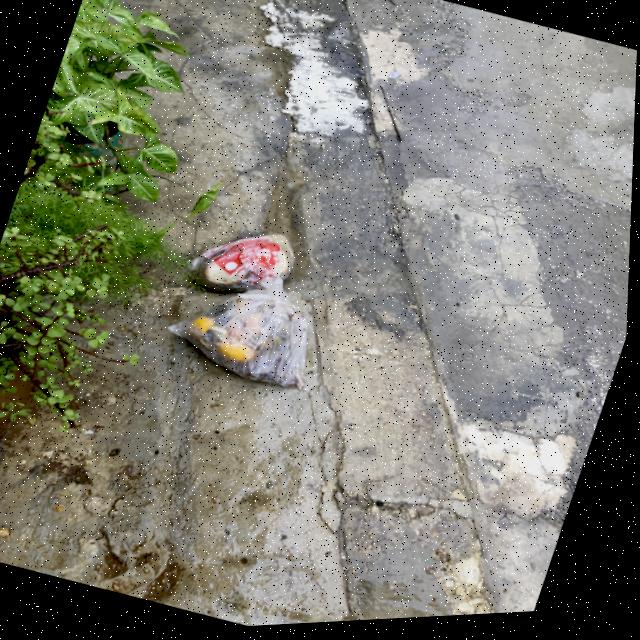Organic Waste -White Bag-: (156, 252, 342, 408), (181, 208, 307, 316)
